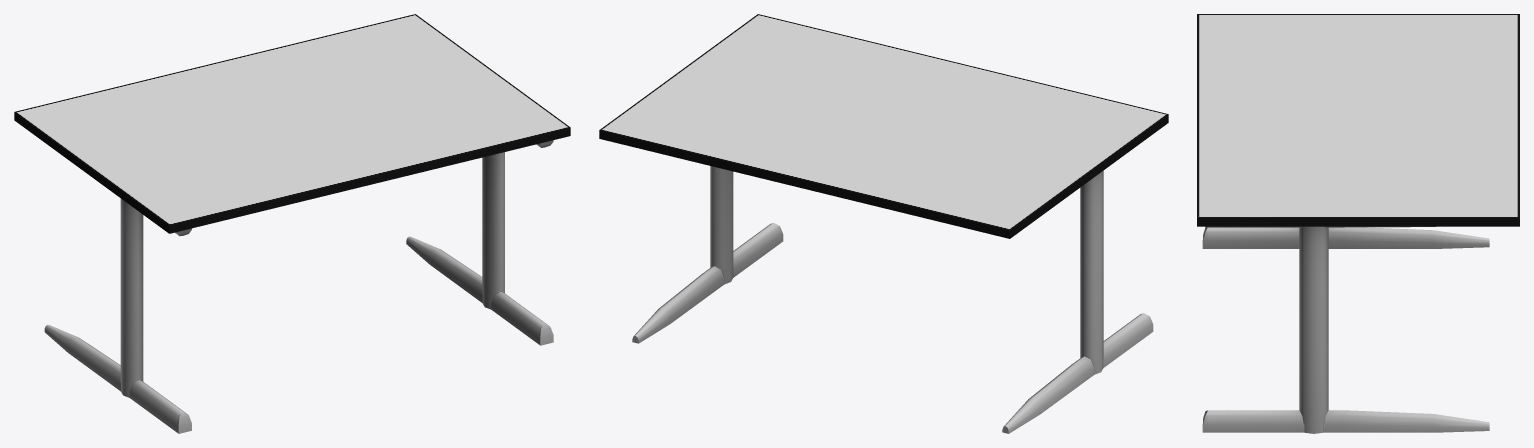
File: deskAvans.fbx
3 renders of one model, left to right at view 1: azimuth 30°, elevation 25°; view 2: azimuth 150°, elevation 25°; view 3: azimuth 270°, elevation 25°, orthographic. The views are drawn at different scales.
Visible parts, largest first — view 1: desk; view 2: desk; view 3: desk.
Boxes of the visible parts, x1,y1,x2,y2 form: desk: (14,14,570,433); desk: (599,14,1168,433); desk: (1197,14,1519,433).
Bounding box in the file's own units: 3.26 × 1.66 × 2.18.
1 material, 1 textured.
